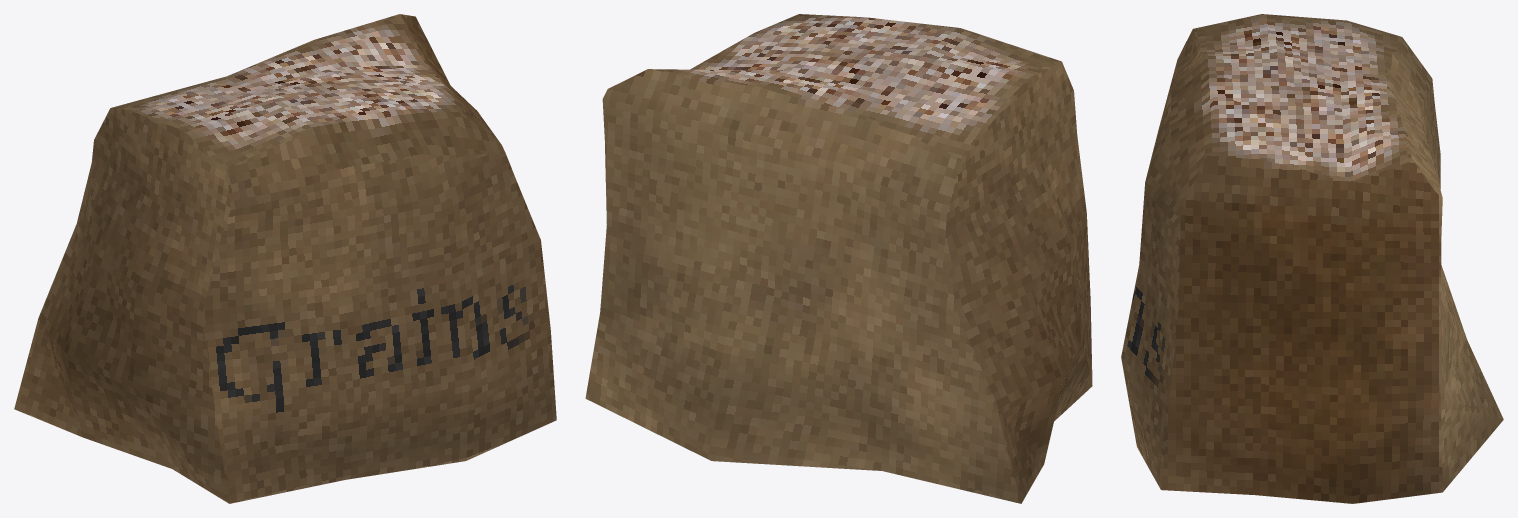
The model's file is Grain-Sac_2.gltf.
3 views of the same model, side by side, from view 1: azimuth 30°, elevation 25°; view 2: azimuth 150°, elevation 25°; view 3: azimuth 270°, elevation 25° (orthographic). The views are drawn at different scales.
Parts seen in each view (by area): view 1: Grain-Sac_2; view 2: Grain-Sac_2; view 3: Grain-Sac_2.
Boxes of the visible parts, box(x1,y1,x2,y2) form: Grain-Sac_2: box(14, 14, 556, 503); Grain-Sac_2: box(585, 14, 1092, 503); Grain-Sac_2: box(1121, 14, 1503, 503).
Size of the model in its own units: 2.7 by 1.97 by 2.07.
1 material, 1 textured.
